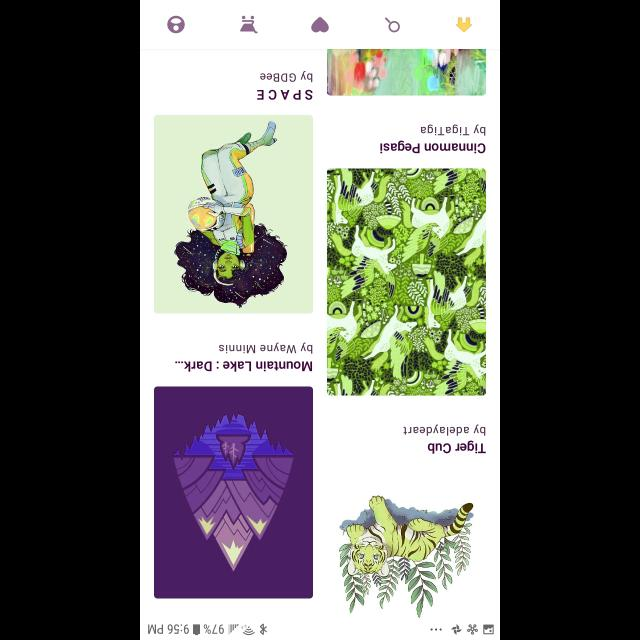icon: (240, 16, 258, 34), (167, 15, 185, 33), (311, 17, 329, 33), (456, 16, 472, 32), (384, 18, 400, 32)
image: (326, 168, 486, 396), (154, 386, 312, 598), (154, 114, 314, 314), (339, 495, 473, 617), (326, 49, 486, 95)
text: (175, 342, 313, 372), (379, 124, 485, 154), (402, 424, 486, 454), (257, 71, 313, 101)
uppertaskbar: (140, 623, 500, 639)
